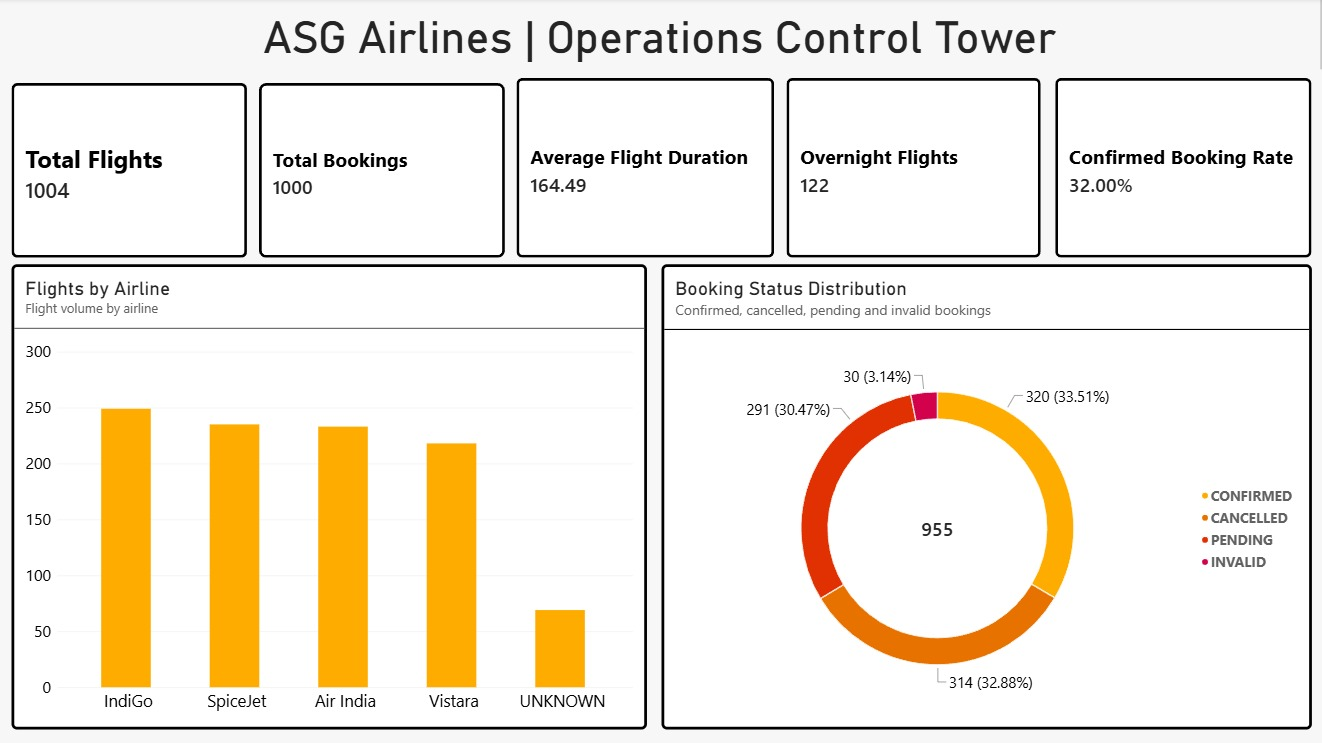

What the dashboard file says about the page in this screenshot:
{"tool":"powerbi","page":{"name":"Executive Overview","canvas":[1920,1080],"ordinal":0},"visuals":[{"type":"textbox","box":[0,0,1920.5,115.6],"z":0},{"type":"cardVisual","fields":{"Data":["fact_flights.Total Flights"]},"box":[17.2,123,341.8,253.3],"z":1000},{"type":"cardVisual","fields":{"Data":["fact_flights.Total Bookings"]},"box":[376.2,123,356.6,253.3],"z":2000},{"type":"cardVisual","fields":{"Data":["fact_flights.Average Flight Duration"]},"box":[750,115.6,373.8,260.7],"z":3000},{"type":"cardVisual","fields":{"Data":["fact_flights.Overnight Flights"]},"box":[1141,115.6,368.9,260.7],"z":4000},{"type":"cardVisual","fields":{"Data":["fact_flights.Confirmed Booking Rate"]},"box":[1529.5,115.6,371.3,260.7],"z":5000},{"type":"clusteredColumnChart","title":"Flights by Airline","fields":{"Category":["airline_summary.airline"],"Y":["Sum(airline_summary.total_flights)"]},"box":[17.2,386.1,919.7,673.8],"z":6000},{"type":"donutChart","title":"Booking Status Distribution","fields":{"Category":["booking_summary.status"],"Y":["Sum(booking_summary.total_bookings)"]},"box":[959,386.1,941.8,673.8],"z":7000}]}

Visuals, with their boxes in screenshot pixels (x1, y1, x2, y2), scaled from the page's 1920x1080 canvas onto the 1322x743 screenshot:
textbox: (0,0,1321,80)
cardVisual - fact_flights.Total Flights: (12,85,247,259)
cardVisual - fact_flights.Total Bookings: (259,85,505,259)
cardVisual - fact_flights.Average Flight Duration: (516,80,774,259)
cardVisual - fact_flights.Overnight Flights: (786,80,1040,259)
cardVisual - fact_flights.Confirmed Booking Rate: (1053,80,1309,259)
"Flights by Airline" clusteredColumnChart: (12,266,645,729)
"Booking Status Distribution" donutChart: (660,266,1309,729)
